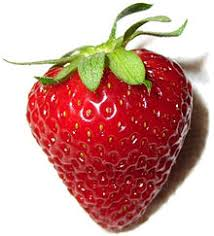strawberry: (25, 35, 196, 236)
